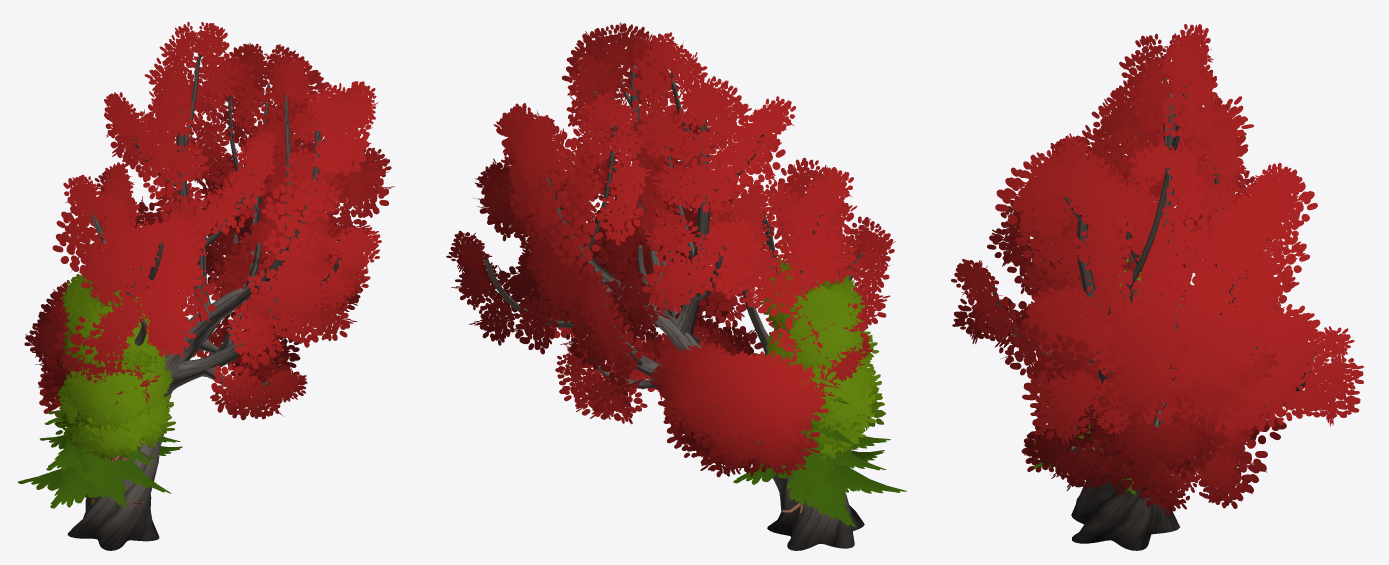
The model's file is trees.glb.
The picture shows the model from 3 angles, left to right: view 1: azimuth 30°, elevation 25°; view 2: azimuth 150°, elevation 25°; view 3: azimuth 270°, elevation 25°; orthographic projection. The views are drawn at different scales.
Visible parts, largest first — view 1: TwistedTree_1, Pine_2, CommonTree_3, CommonTree_1, CommonTree_2, CommonTree_4, CommonTree_5; view 2: TwistedTree_1, Pine_2, CommonTree_3, CommonTree_4, CommonTree_1, CommonTree_2, CommonTree_5; view 3: TwistedTree_1.
Part boxes in pixels (<box>): TwistedTree_1: <box>24,21,394,550</box>; Pine_2: <box>18,359,182,508</box>; CommonTree_3: <box>61,284,173,434</box>; CommonTree_1: <box>55,351,175,458</box>; CommonTree_2: <box>57,339,173,461</box>; CommonTree_4: <box>65,268,159,458</box>; CommonTree_5: <box>62,360,163,456</box>; TwistedTree_1: <box>446,22,895,550</box>; Pine_2: <box>733,355,906,527</box>; CommonTree_3: <box>768,262,879,432</box>; CommonTree_4: <box>760,258,865,381</box>; CommonTree_1: <box>763,332,885,451</box>; CommonTree_2: <box>765,330,884,441</box>; CommonTree_5: <box>782,344,876,462</box>; TwistedTree_1: <box>951,24,1363,550</box>.
Bounding box in the file's own units: 14.23 × 16.77 × 11.55.
6 materials, 6 textured.
